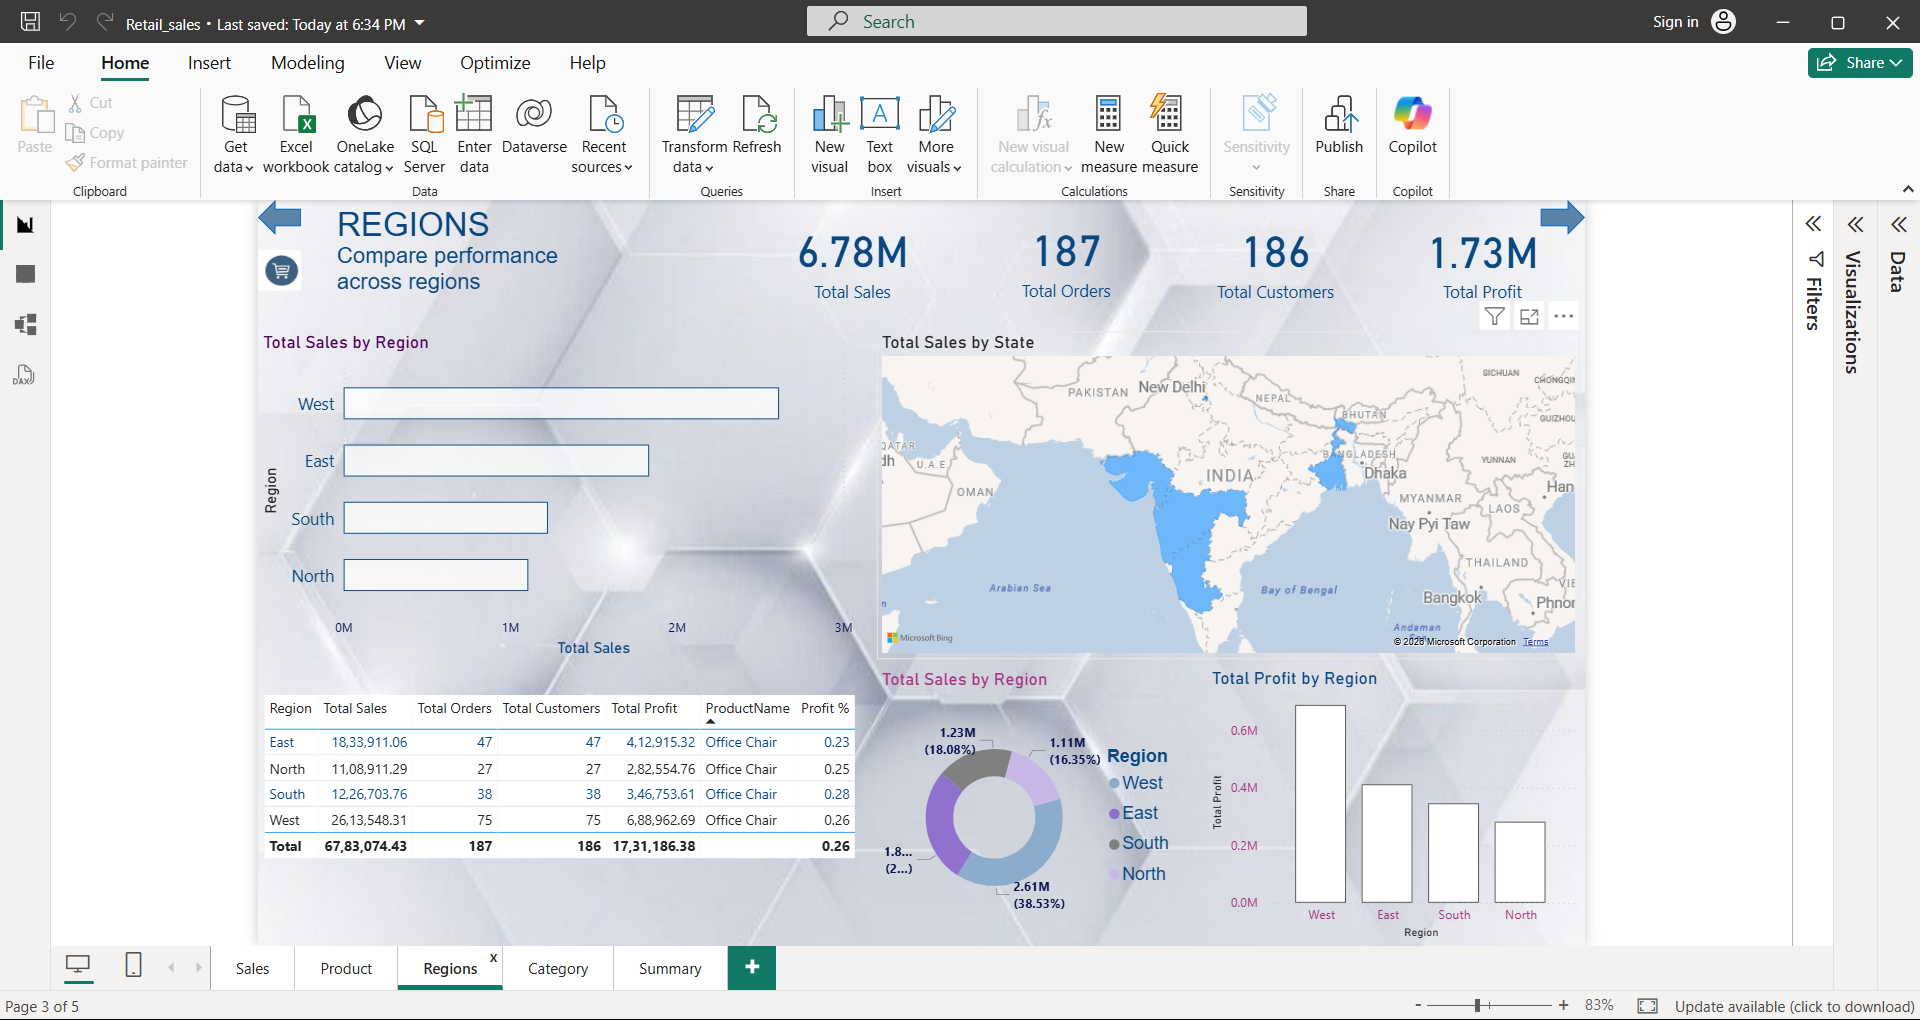

The page's visual inventory and layout, read from the dashboard file:
{"tool":"powerbi","page":{"name":"Regions","canvas":[1280,720],"ordinal":2},"visuals":[{"type":"card","fields":{"Values":["Retail_Sales_Analytics_Dataset.Total Sales"]},"box":[460,1.4,228.6,110],"z":0},{"type":"card","fields":{"Values":["Retail_Sales_Analytics_Dataset.Total Customers"]},"box":[868.6,0,227.1,112.9],"z":1000},{"type":"card","fields":{"Values":["Retail_Sales_Analytics_Dataset.Total Profit"]},"box":[1082.9,1.4,197.1,111.4],"z":2000},{"type":"card","fields":{"Values":["Retail_Sales_Analytics_Dataset.Total Orders"]},"box":[678.6,0,204.3,111.4],"z":3000},{"type":"clusteredBarChart","fields":{"Category":["Retail_Sales_Analytics_Dataset.Region"],"Y":["Retail_Sales_Analytics_Dataset.Total Sales"]},"box":[0,127.1,584.3,318.6],"z":4000},{"type":"filledMap","fields":{"Category":["Retail_Sales_Analytics_Dataset.State"]},"box":[597.1,127.1,678.6,315.7],"z":5000},{"type":"tableEx","fields":{"Values":["Retail_Sales_Analytics_Dataset.Region","Retail_Sales_Analytics_Dataset.Total Sales","Retail_Sales_Analytics_Dataset.Total Orders","Retail_Sales_Analytics_Dataset.Total Customers","Retail_Sales_Analytics_Dataset.Total Profit","Retail_Sales_Analytics_Dataset.ProductName","Retail_Sales_Analytics_Dataset.Profit %"]},"box":[0,472.9,583.9,232.8],"z":6000},{"type":"donutChart","fields":{"Y":["Retail_Sales_Analytics_Dataset.Total Sales"],"Category":["Retail_Sales_Analytics_Dataset.Region"]},"box":[596.7,452,306.1,268.3],"z":7000},{"type":"clusteredColumnChart","fields":{"Category":["Retail_Sales_Analytics_Dataset.Region"],"Y":["Retail_Sales_Analytics_Dataset.Total Profit"]},"box":[915.7,451.4,360,267.1],"z":8000},{"type":"textbox","box":[71.4,1.4,365.7,110],"z":9000},{"type":"shape","box":[1237.2,0,43,33.7],"z":10000},{"type":"shape","box":[0,0,41.9,33.7],"z":11000},{"type":"actionButton","box":[0,47.7,41.9,39.5],"z":12000}]}

Visuals, with their boxes on the page's 1280x720 design canvas (x1, y1, x2, y2). These are canvas units, not pixel positions in the 1920x1020 screenshot, which may show the page scaled, cropped or inside an application window:
card - Retail_Sales_Analytics_Dataset.Total Sales: 460,1,689,111
card - Retail_Sales_Analytics_Dataset.Total Customers: 869,0,1096,113
card - Retail_Sales_Analytics_Dataset.Total Profit: 1083,1,1280,113
card - Retail_Sales_Analytics_Dataset.Total Orders: 679,0,883,111
clusteredBarChart - Retail_Sales_Analytics_Dataset.Region x Retail_Sales_Analytics_Dataset.Total Sales: 0,127,584,446
filledMap - Retail_Sales_Analytics_Dataset.State: 597,127,1276,443
tableEx - Retail_Sales_Analytics_Dataset.Region x Retail_Sales_Analytics_Dataset.Total Sales: 0,473,584,706
donutChart - Retail_Sales_Analytics_Dataset.Total Sales x Retail_Sales_Analytics_Dataset.Region: 597,452,903,720
clusteredColumnChart - Retail_Sales_Analytics_Dataset.Region x Retail_Sales_Analytics_Dataset.Total Profit: 916,451,1276,718
textbox: 71,1,437,111
shape: 1237,0,1280,34
shape: 0,0,42,34
actionButton: 0,48,42,87
